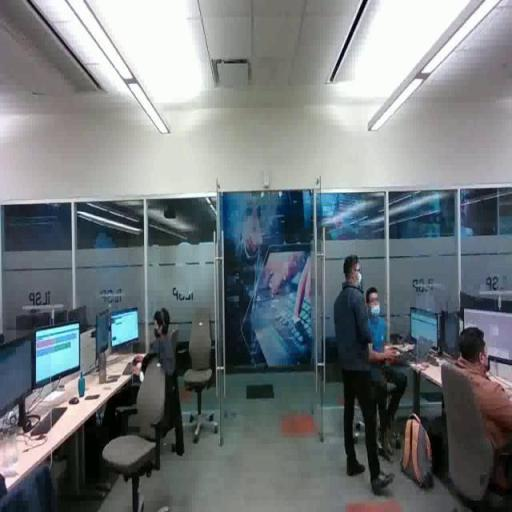person: (333, 256, 396, 495), (439, 320, 512, 494), (126, 304, 203, 465), (357, 285, 399, 373)
